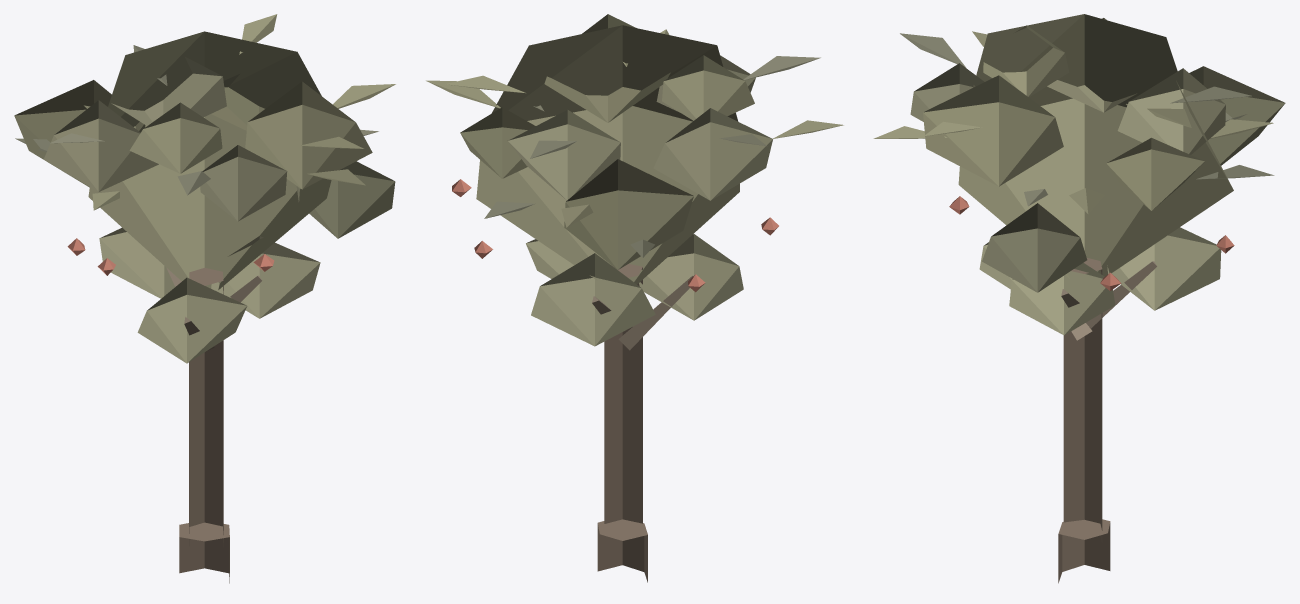
The model's file is shu.yinxing@fruiting__winter.glb.
The picture shows the model from 3 angles, left to right: view 1: azimuth 30°, elevation 25°; view 2: azimuth 150°, elevation 25°; view 3: azimuth 270°, elevation 25°; orthographic projection. The views are drawn at different scales.
Parts seen in each view (by area): view 1: shu.yinxing@fruiting__winter; view 2: shu.yinxing@fruiting__winter; view 3: shu.yinxing@fruiting__winter.
Part boxes in pixels (x1,y1,x2,y2): shu.yinxing@fruiting__winter: (14,14,395,583); shu.yinxing@fruiting__winter: (426,14,843,582); shu.yinxing@fruiting__winter: (873,14,1285,583).
Size of the model in its own units: 9.93 by 14.35 by 9.57.
